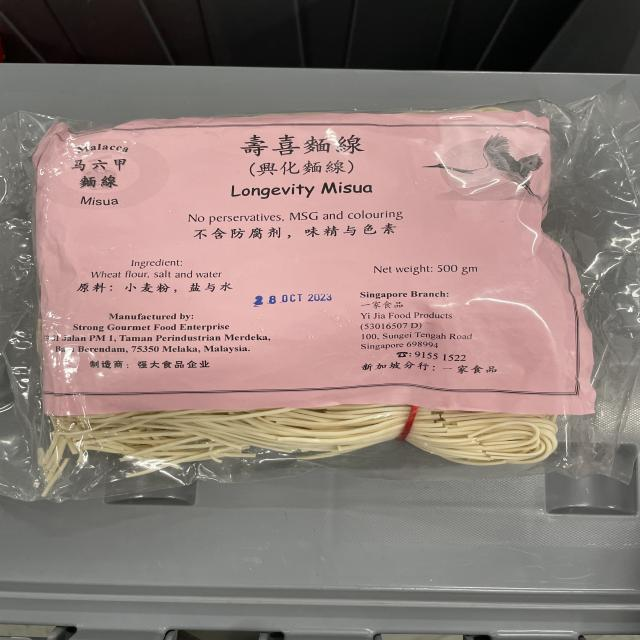object_name: (22, 122, 625, 483)
